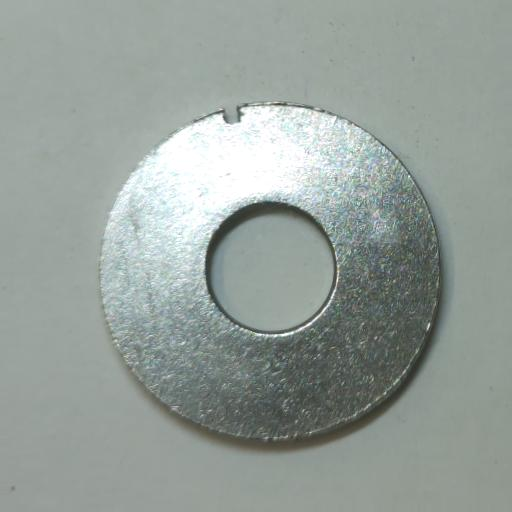burr: (220, 103, 244, 126)
